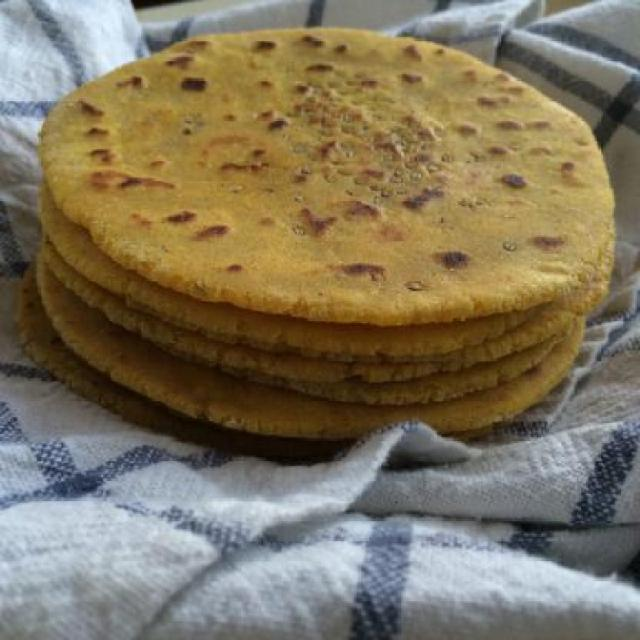chapati: (40, 27, 614, 325)
